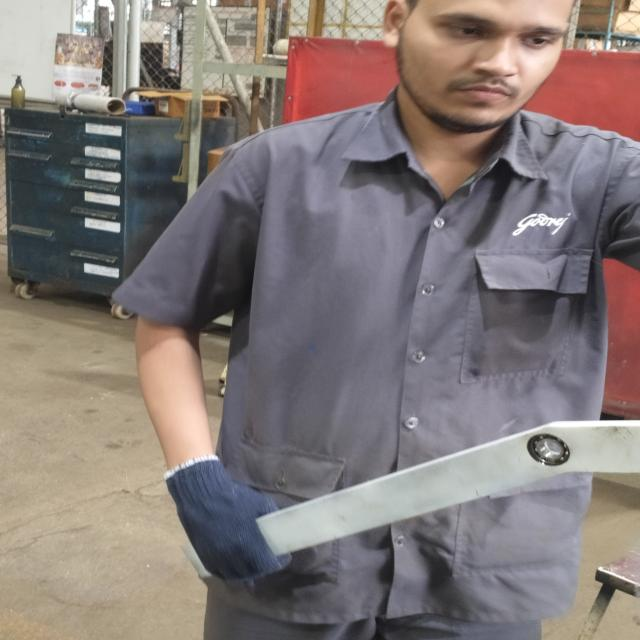Gloves-Detection: (157, 461, 296, 583)
